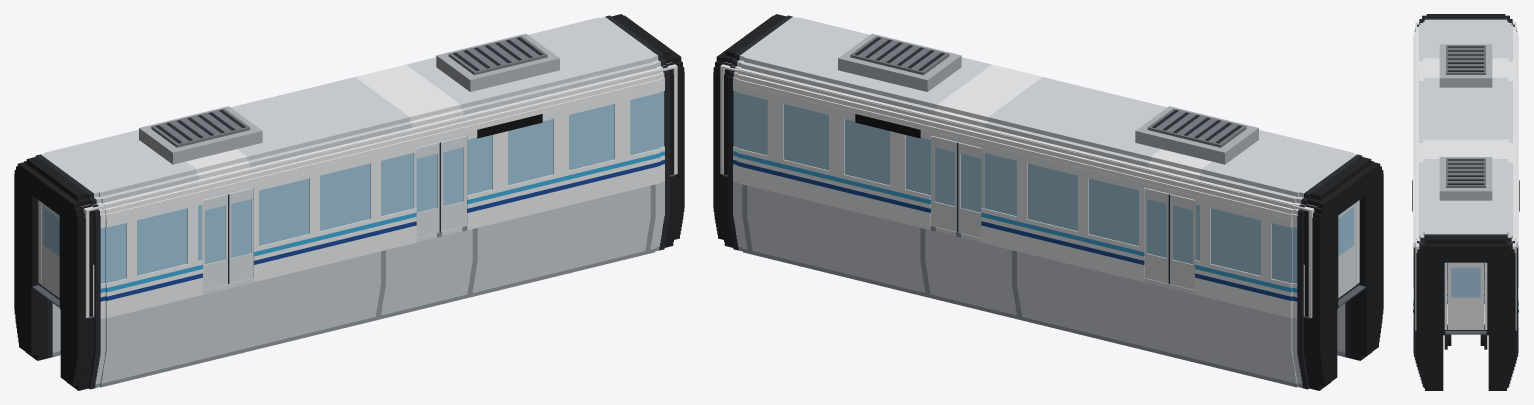
Rendered from osaka_car.obj.
3 views of the same model, side by side, from view 1: azimuth 30°, elevation 25°; view 2: azimuth 150°, elevation 25°; view 3: azimuth 270°, elevation 25° (orthographic). The views are drawn at different scales.
Visible parts, largest first — view 1: SHELL, SHELL_diaphragm, SHELL_roof, EXTERNAL_DOOR_4_CG_DR1_TOGGLE_TL_-0.59_X, EXTERNAL_DOOR_10_CG_DR2_TOGGLE_TL_-0.59_X, EXTERNAL_DOOR_11_CG_DR2_TOGGLE_TL_0.59_X, EXTERNAL_DOOR_5_CG_DR1_TOGGLE_TL_0.59_X, SHELL_ceiling, CONNECTING_DOOR_1_CG_CR_TOGGLE_TL_0.98_Z, SHELL_end, SHELL_sign; view 2: SHELL, SHELL_diaphragm, SHELL_roof, EXTERNAL_DOOR_7_CG_DL1_TOGGLE_TL_-0.59_X, EXTERNAL_DOOR_13_CG_DL2_TOGGLE_TL_-0.59_X, EXTERNAL_DOOR_14_CG_DL2_TOGGLE_TL_0.59_X, EXTERNAL_DOOR_8_CG_DL1_TOGGLE_TL_0.59_X, SHELL_ceiling, CONNECTING_DOOR_1_CG_CR_TOGGLE_TL_0.98_Z, SHELL_end, SHELL_sign; view 3: SHELL, SHELL_diaphragm, SHELL_roof, CONNECTING_DOOR_2_CG_CF_TOGGLE_TL_0.98_Z, SHELL_ceiling, SHELL_end, BOGEY_FRONT, SHELL_gangway, FLOOR.
Part boxes in pixels (x1,y1,x2,y2): SHELL: [24, 14, 678, 390]; SHELL_diaphragm: [14, 15, 684, 386]; SHELL_roof: [139, 33, 559, 164]; EXTERNAL_DOOR_4_CG_DR1_TOGGLE_TL_-0.59_X: [202, 194, 229, 289]; EXTERNAL_DOOR_10_CG_DR2_TOGGLE_TL_-0.59_X: [413, 142, 440, 237]; EXTERNAL_DOOR_11_CG_DR2_TOGGLE_TL_0.59_X: [440, 136, 466, 231]; EXTERNAL_DOOR_5_CG_DR1_TOGGLE_TL_0.59_X: [228, 188, 253, 283]; SHELL_ceiling: [84, 63, 675, 211]; CONNECTING_DOOR_1_CG_CR_TOGGLE_TL_0.98_Z: [41, 202, 59, 297]; SHELL_end: [38, 62, 677, 318]; SHELL_sign: [477, 114, 542, 138]; SHELL: [719, 14, 1373, 390]; SHELL_diaphragm: [713, 15, 1383, 386]; SHELL_roof: [838, 33, 1258, 164]; EXTERNAL_DOOR_7_CG_DL1_TOGGLE_TL_-0.59_X: [1168, 194, 1195, 289]; EXTERNAL_DOOR_13_CG_DL2_TOGGLE_TL_-0.59_X: [957, 142, 984, 237]; EXTERNAL_DOOR_14_CG_DL2_TOGGLE_TL_0.59_X: [931, 136, 957, 231]; EXTERNAL_DOOR_8_CG_DL1_TOGGLE_TL_0.59_X: [1144, 188, 1169, 283]; SHELL_ceiling: [722, 63, 1313, 211]; CONNECTING_DOOR_1_CG_CR_TOGGLE_TL_0.98_Z: [1338, 202, 1356, 297]; SHELL_end: [720, 62, 1359, 318]; SHELL_sign: [855, 114, 920, 138]; SHELL: [1413, 14, 1518, 390]; SHELL_diaphragm: [1416, 15, 1515, 388]; SHELL_roof: [1439, 44, 1492, 200]; CONNECTING_DOOR_2_CG_CF_TOGGLE_TL_0.98_Z: [1447, 262, 1484, 329]; SHELL_ceiling: [1415, 23, 1516, 245]; SHELL_end: [1415, 22, 1516, 330]; BOGEY_FRONT: [1444, 334, 1487, 349]; SHELL_gangway: [1445, 331, 1486, 334]; FLOOR: [1445, 279, 1486, 334].
Size of the model in its own units: 14.92 by 4.9 by 2.92.
1 material, 1 textured.
